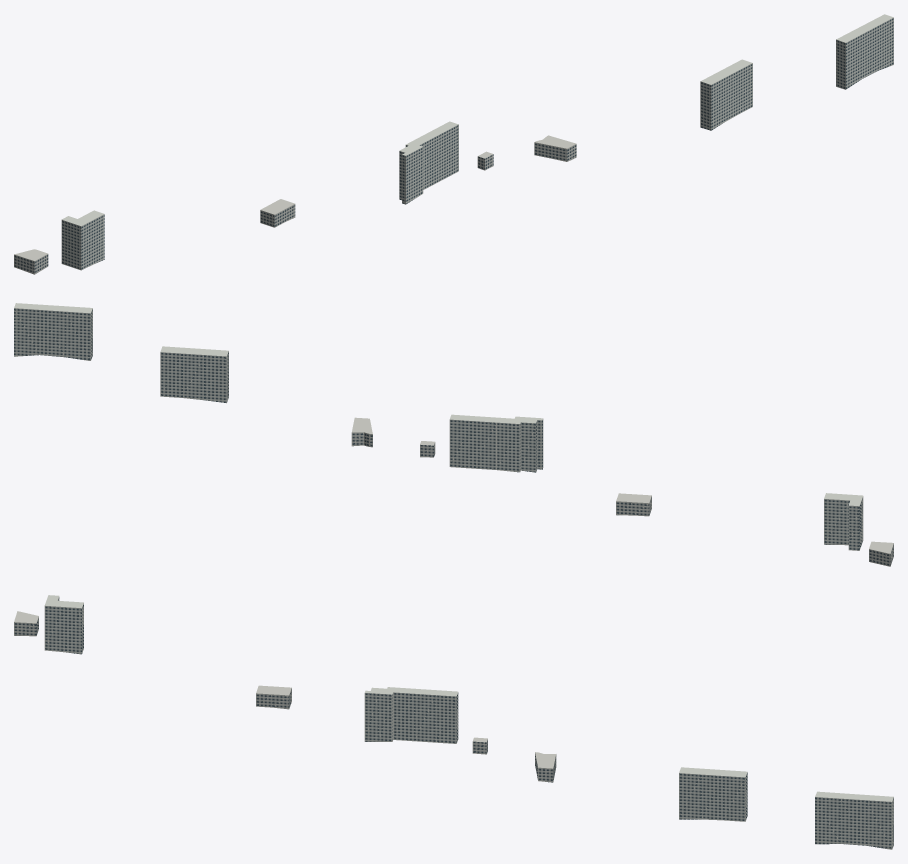
The model's file is city_4_5.glb.
The picture shows the model from 3 angles, top to bottom: view 1: azimuth 30°, elevation 25°; view 2: azimuth 150°, elevation 25°; view 3: azimuth 330°, elevation 25°; orthographic projection.
Size of the model in its own units: 929 by 58.32 by 49.06.
Materials: 2 (2 with a texture image).
